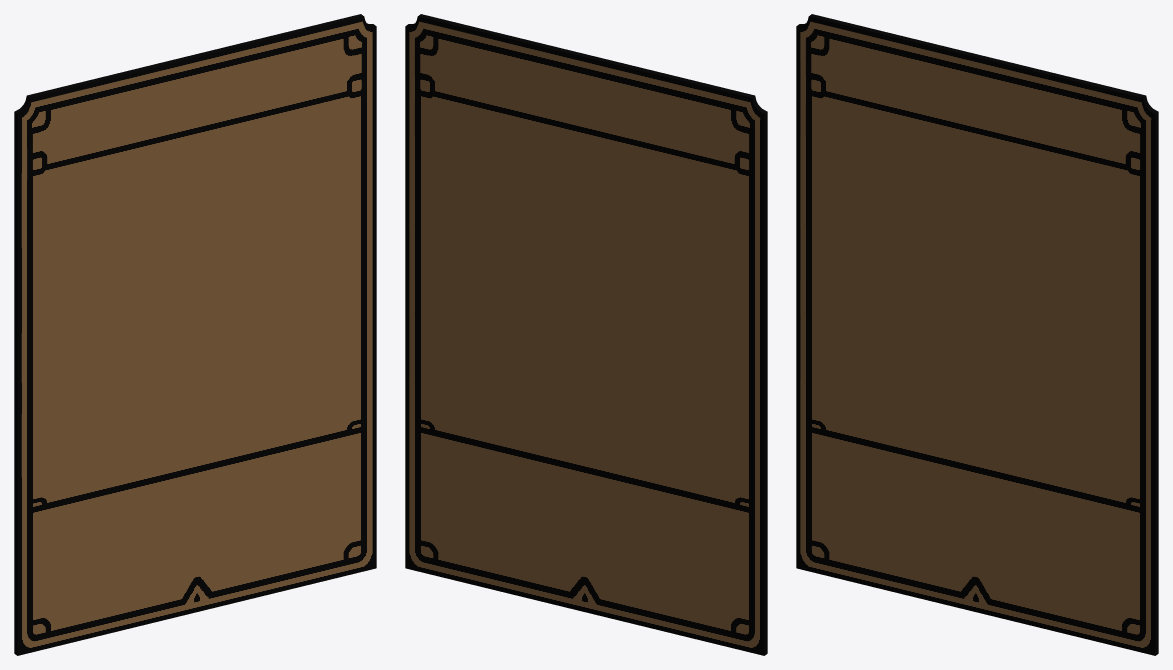
File: Will_Card.glb
3 renders of one model, left to right at view 1: azimuth 30°, elevation 25°; view 2: azimuth 150°, elevation 25°; view 3: azimuth 330°, elevation 25°, orthographic.
Visible parts, largest first — view 1: Cube.009; view 2: Cube.009; view 3: Cube.009.
Boxes of the visible parts, x1=… form: Cube.009: x1=14, y1=14, x2=376, y2=655; Cube.009: x1=405, y1=14, x2=767, y2=655; Cube.009: x1=796, y1=14, x2=1158, y2=655.
Size of the model in its own units: 1.28 by 1.89 by 0.02.
Materials: 2 (1 with a texture image).
